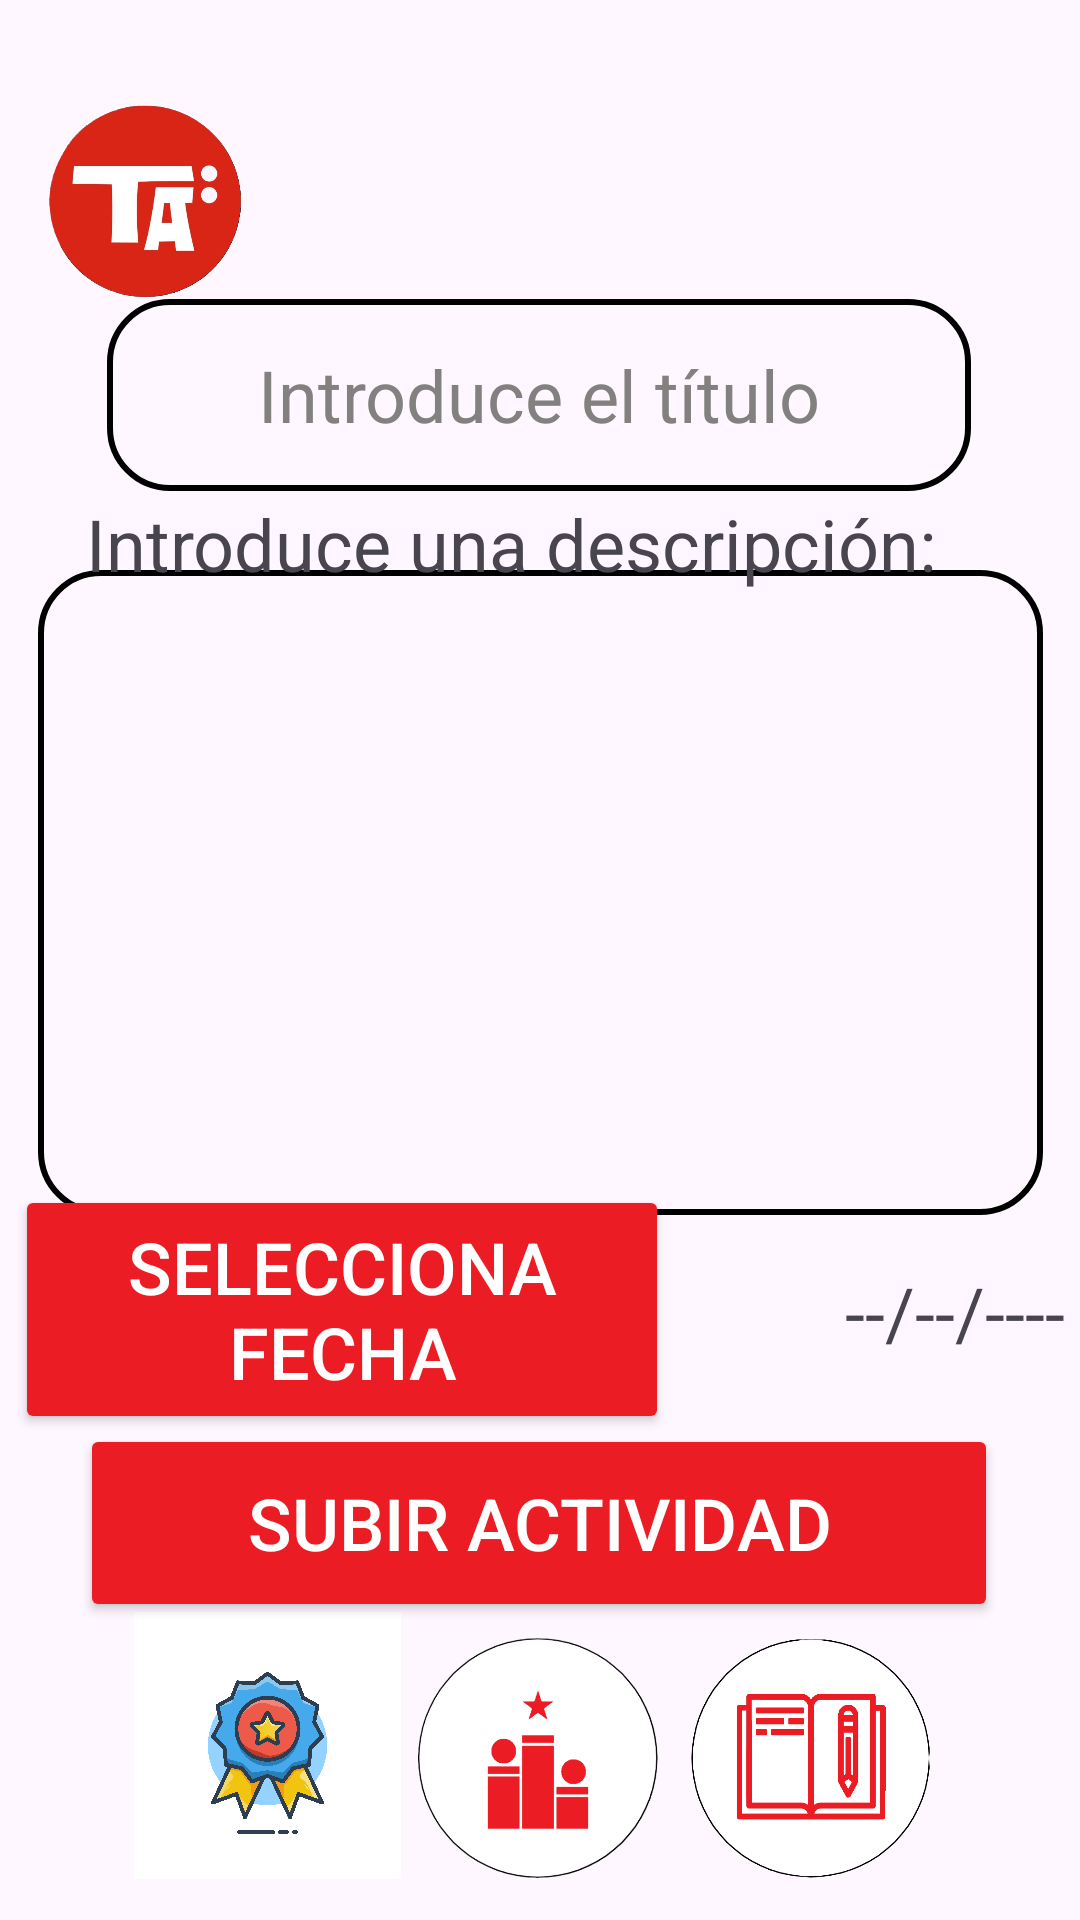

Icons on this 1080x1920 Android screen, each with the point to tap as point (x, y):
actividades: point (810, 1758)
logro: point (267, 1753)
ranking: point (538, 1758)
